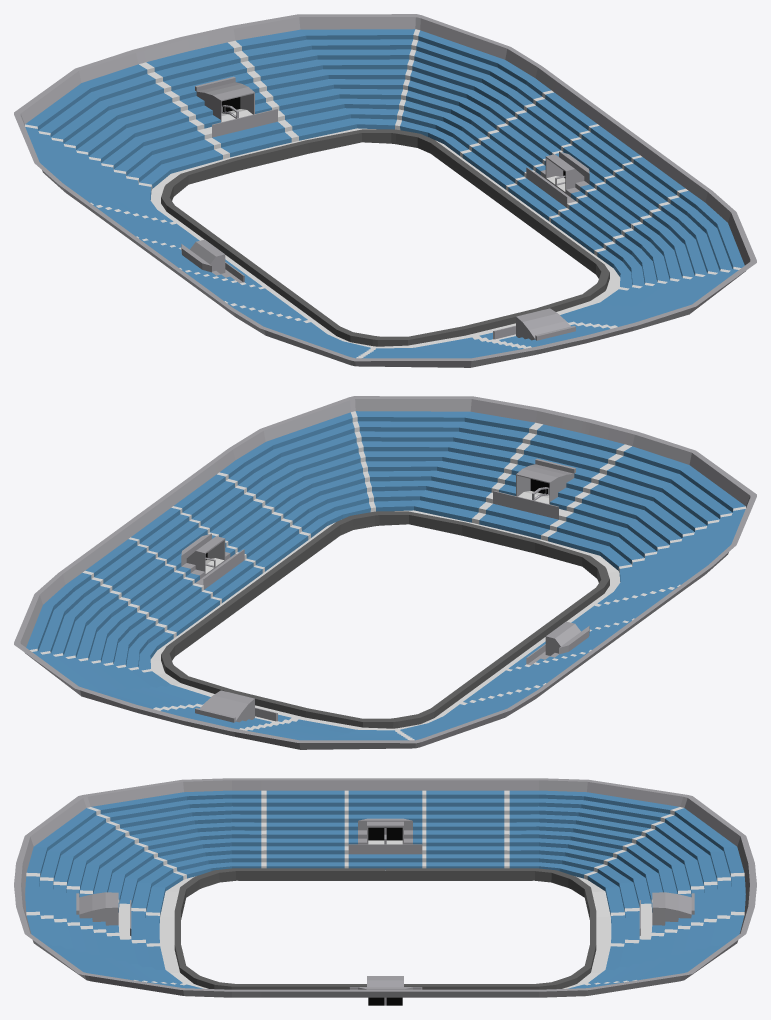
Rendered from Estadio Oval.fbx.
3 views of the same model, one above another, from view 1: azimuth 30°, elevation 25°; view 2: azimuth 150°, elevation 25°; view 3: azimuth 270°, elevation 25° (orthographic). The views are drawn at different scales.
Parts seen in each view (by area): view 1: Estadio Simples Oval; view 2: Estadio Simples Oval; view 3: Estadio Simples Oval.
Part boxes in pixels (bbox=[...]): Estadio Simples Oval: bbox=[14, 14, 756, 367]; Estadio Simples Oval: bbox=[14, 396, 756, 749]; Estadio Simples Oval: bbox=[14, 778, 756, 1005].
Bounding box in the file's own units: 21077 × 2407 × 30993.
